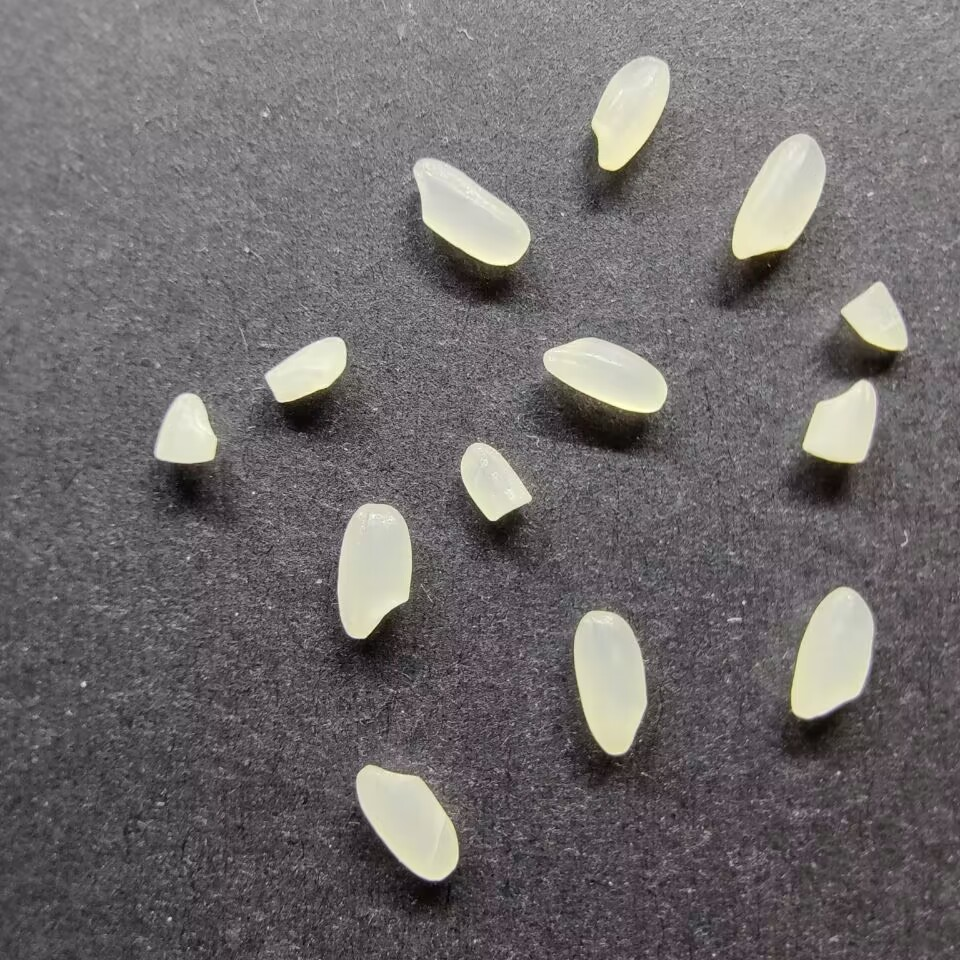broken: (798, 377, 880, 464), (261, 334, 350, 406), (457, 441, 534, 524), (839, 278, 910, 353), (149, 389, 218, 464)
rice: (408, 155, 534, 267), (352, 761, 461, 884), (729, 132, 828, 260), (788, 586, 877, 720), (572, 609, 650, 756), (333, 502, 413, 641), (540, 335, 669, 415), (586, 54, 672, 173)
